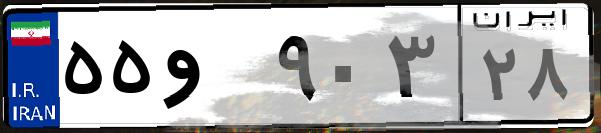0: (330, 28, 385, 110)
2: (475, 38, 525, 113)
3: (385, 28, 445, 110)
5: (57, 26, 110, 100), (110, 28, 158, 98)
8: (525, 38, 570, 115)
9: (270, 28, 330, 110)
و: (158, 20, 270, 120)
